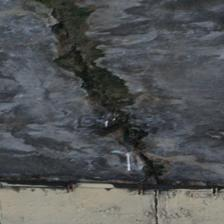Crack: (56, 55, 177, 224), (24, 0, 150, 29)
